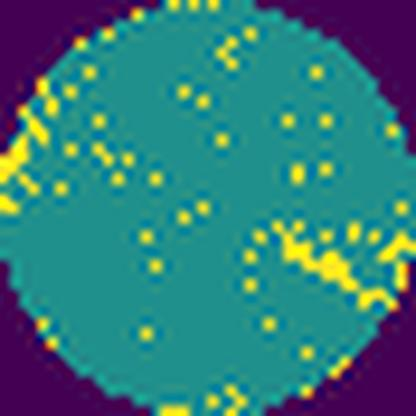Scratch: (272, 218, 395, 315)
